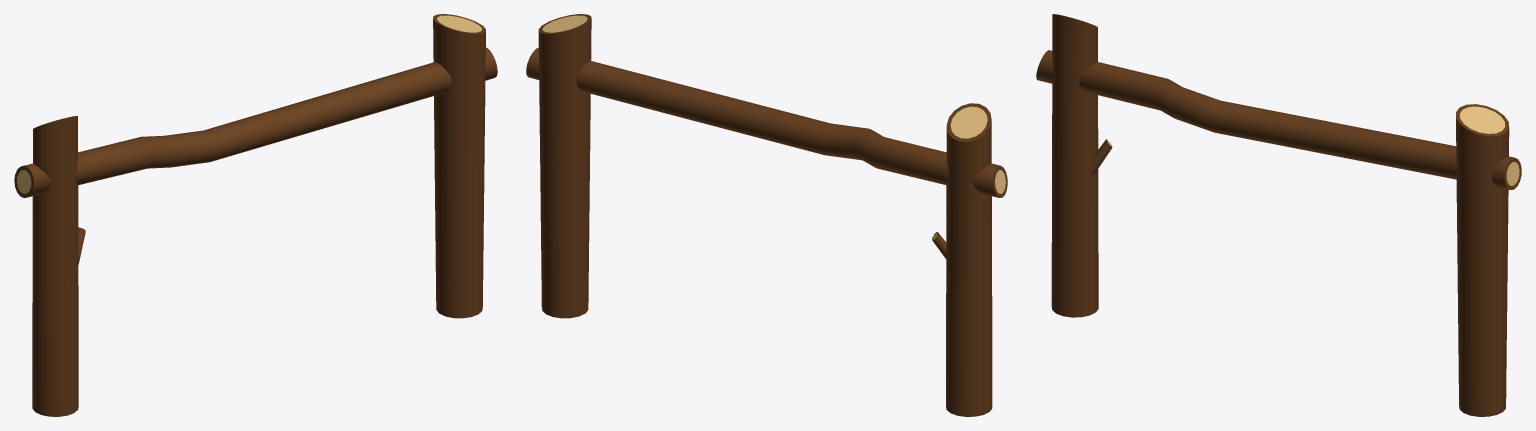
The model's file is fenceCrude1.fbx.
3 renders of one model, left to right at view 1: azimuth 30°, elevation 25°; view 2: azimuth 150°, elevation 25°; view 3: azimuth 330°, elevation 25°, orthographic.
Parts seen in each view (by area): view 1: Crude Fence 1; view 2: Crude Fence 1; view 3: Crude Fence 1.
Boxes of the visible parts, left/top/right/bottom form: Crude Fence 1: left=14, top=14, right=497, bottom=416; Crude Fence 1: left=526, top=14, right=1007, bottom=416; Crude Fence 1: left=1036, top=14, right=1521, bottom=416.
Size of the model in its own units: 167 by 16.92 by 100.
